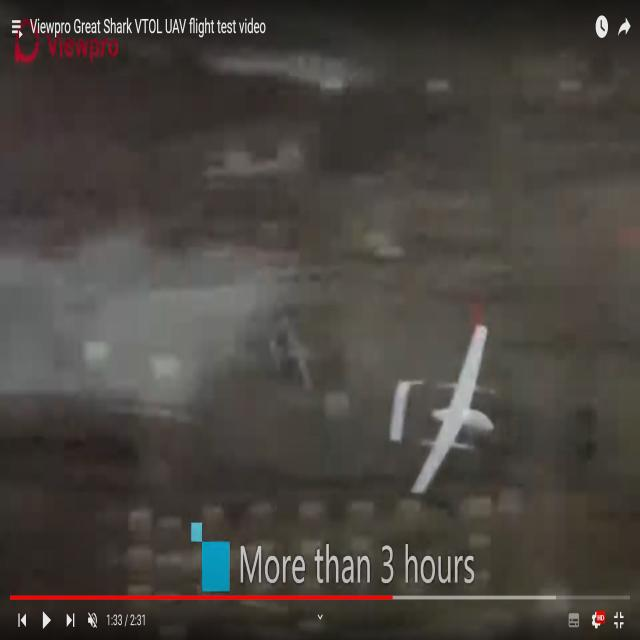iha: (420, 328, 462, 495)
